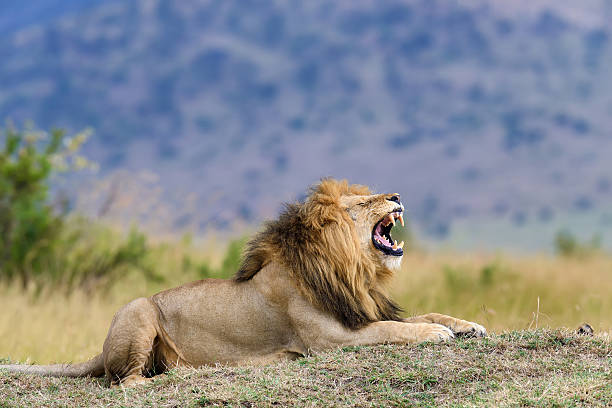lion: (224, 164, 421, 339)
